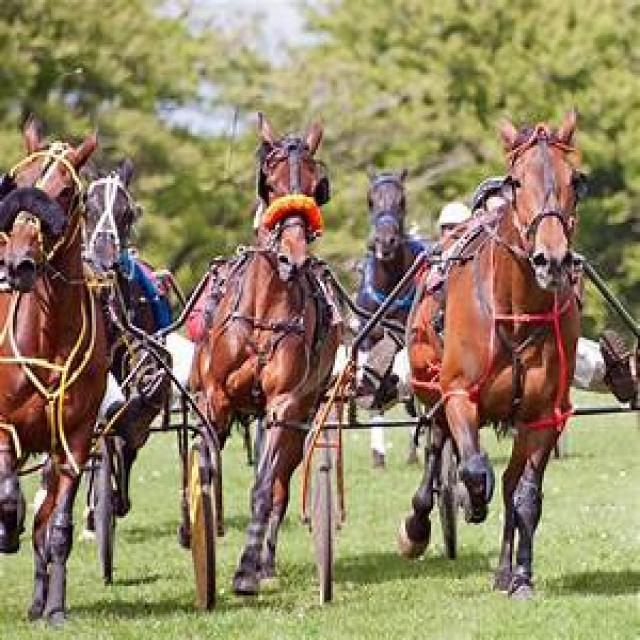horse: (169, 124, 356, 614), (401, 113, 585, 600), (0, 122, 124, 626), (356, 169, 414, 324)
